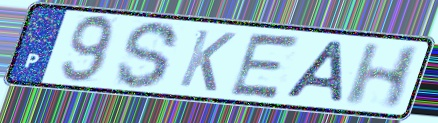9: (57, 13, 117, 87)
A: (281, 39, 349, 106)
E: (225, 30, 305, 102)
H: (340, 41, 425, 111)
K: (175, 26, 239, 94)
S: (113, 19, 183, 91)
